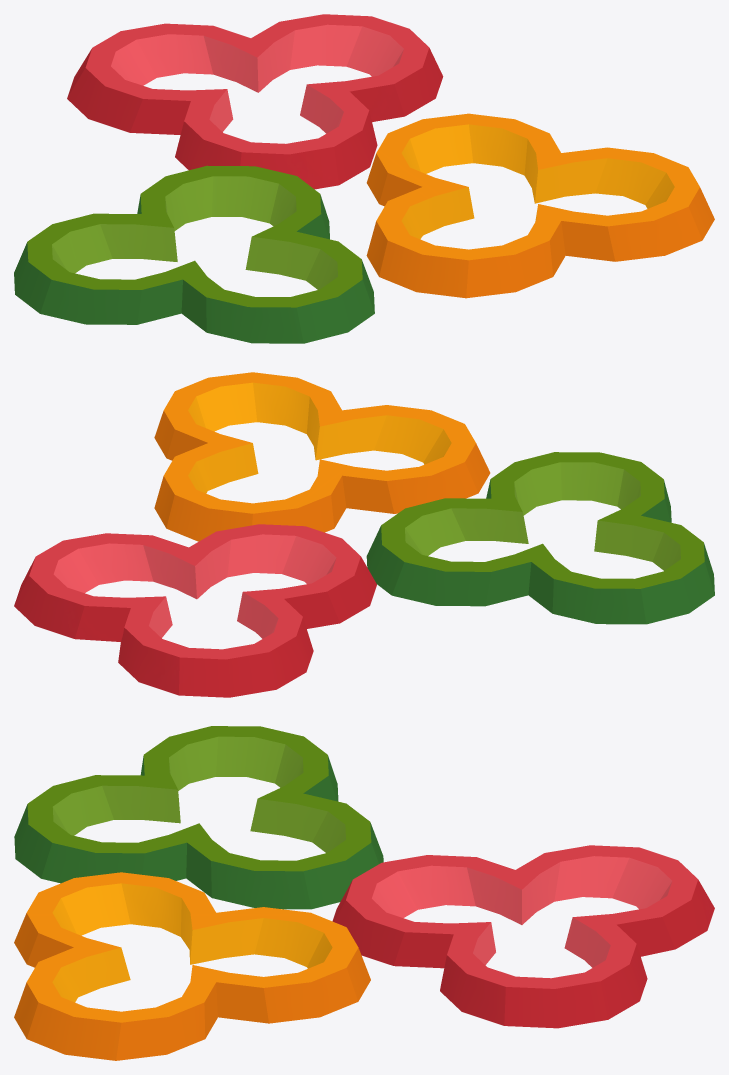
File: Pepper_Slice_Pepper_0.glb
The picture shows the model from 3 angles, top to bottom: view 1: azimuth 30°, elevation 25°; view 2: azimuth 150°, elevation 25°; view 3: azimuth 270°, elevation 25°; orthographic projection. The views are drawn at different scales.
Parts seen in each view (by area): view 1: Pepper_Slice_Pepper_0; view 2: Pepper_Slice_Pepper_0; view 3: Pepper_Slice_Pepper_0.
Part boxes in pixels (x1,y1,x2,y2): Pepper_Slice_Pepper_0: (14, 14, 714, 343); Pepper_Slice_Pepper_0: (14, 372, 714, 697); Pepper_Slice_Pepper_0: (14, 726, 714, 1060).
Bounding box in the file's own units: 0.2029 × 0.01 × 0.1952.
Materials: 1 (1 with a texture image).
